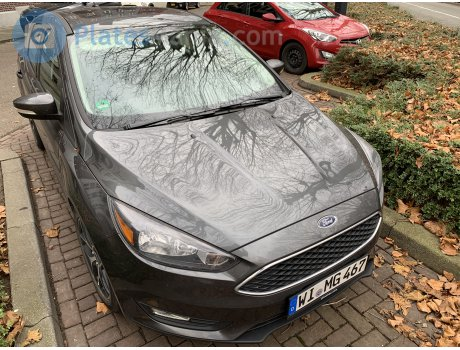License Plates: (292, 264, 363, 296)
